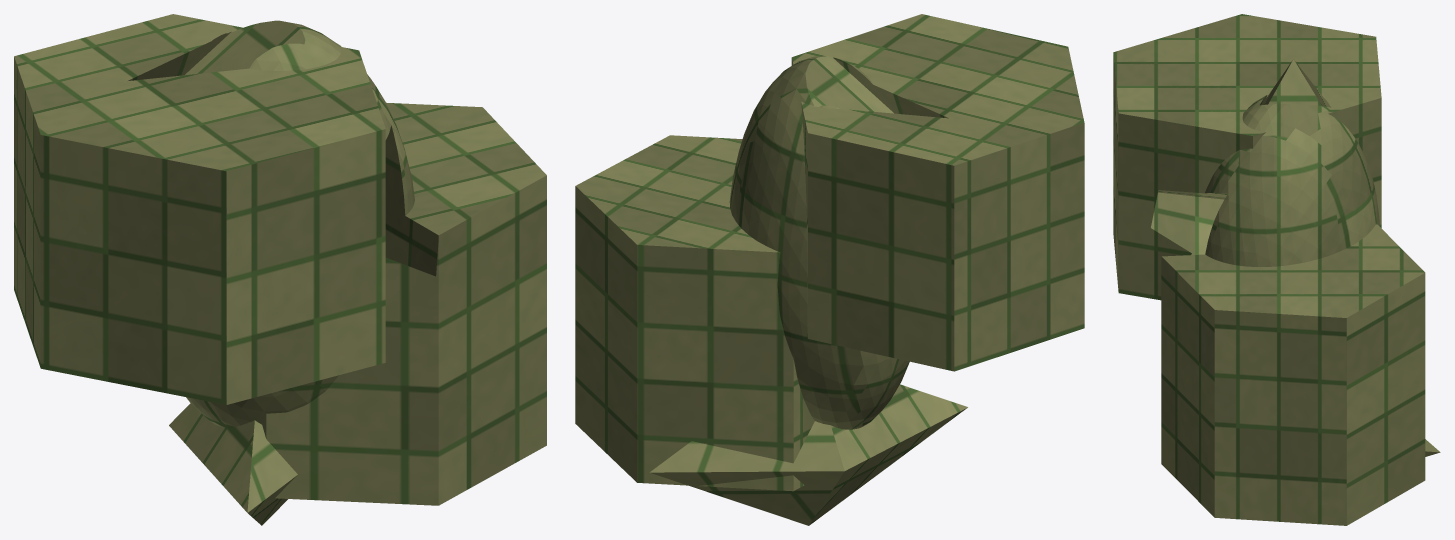
3 views of the same model, side by side, from view 1: azimuth 30°, elevation 25°; view 2: azimuth 150°, elevation 25°; view 3: azimuth 270°, elevation 25° (orthographic). The views are drawn at different scales.
Parts seen in each view (by area): view 1: geometry_0; view 2: geometry_0; view 3: geometry_0.
Boxes of the visible parts, box(x1,y1,x2,y2) form: geometry_0: box(14, 14, 546, 525); geometry_0: box(575, 14, 1084, 525); geometry_0: box(1113, 14, 1440, 525).
Size of the model in its own units: 1.66 by 1.59 by 1.2.
1 material, 1 textured.
